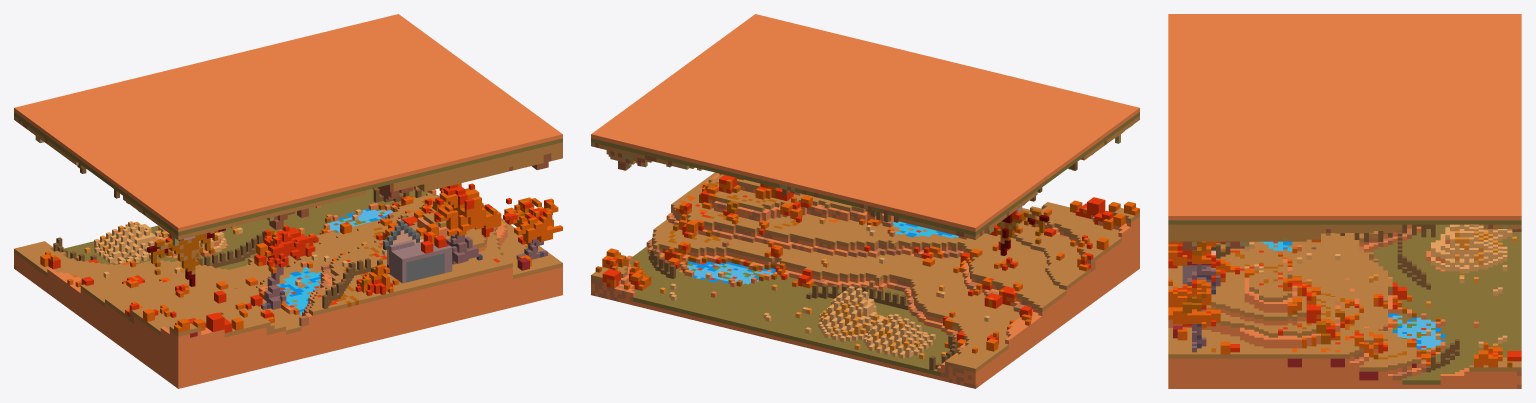
File: AutumnCJ.fbx
3 renders of one model, left to right at view 1: azimuth 30°, elevation 25°; view 2: azimuth 150°, elevation 25°; view 3: azimuth 270°, elevation 25°, orthographic. The views are drawn at different scales.
Parts seen in each view (by area): view 1: Autumn; view 2: Autumn; view 3: Autumn.
Boxes of the visible parts, x1,y1,x2,y2 form: Autumn: (14,14,562,388); Autumn: (591,14,1139,388); Autumn: (1168,14,1521,388).
Bounding box in the file's own units: 100 × 40 × 74.
Materials: 1 (1 with a texture image).
